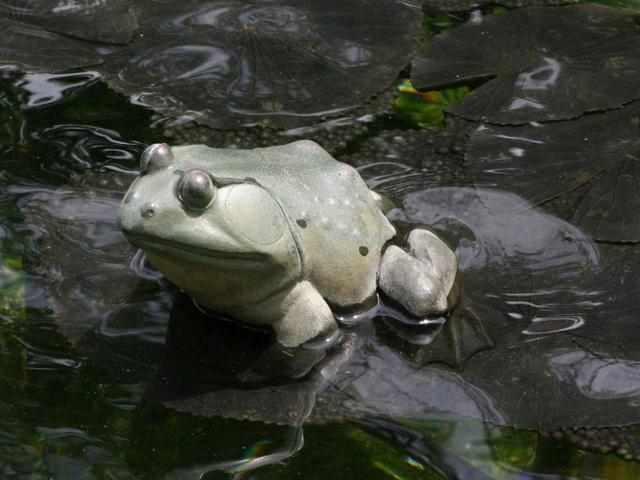frog: (90, 91, 479, 380)
